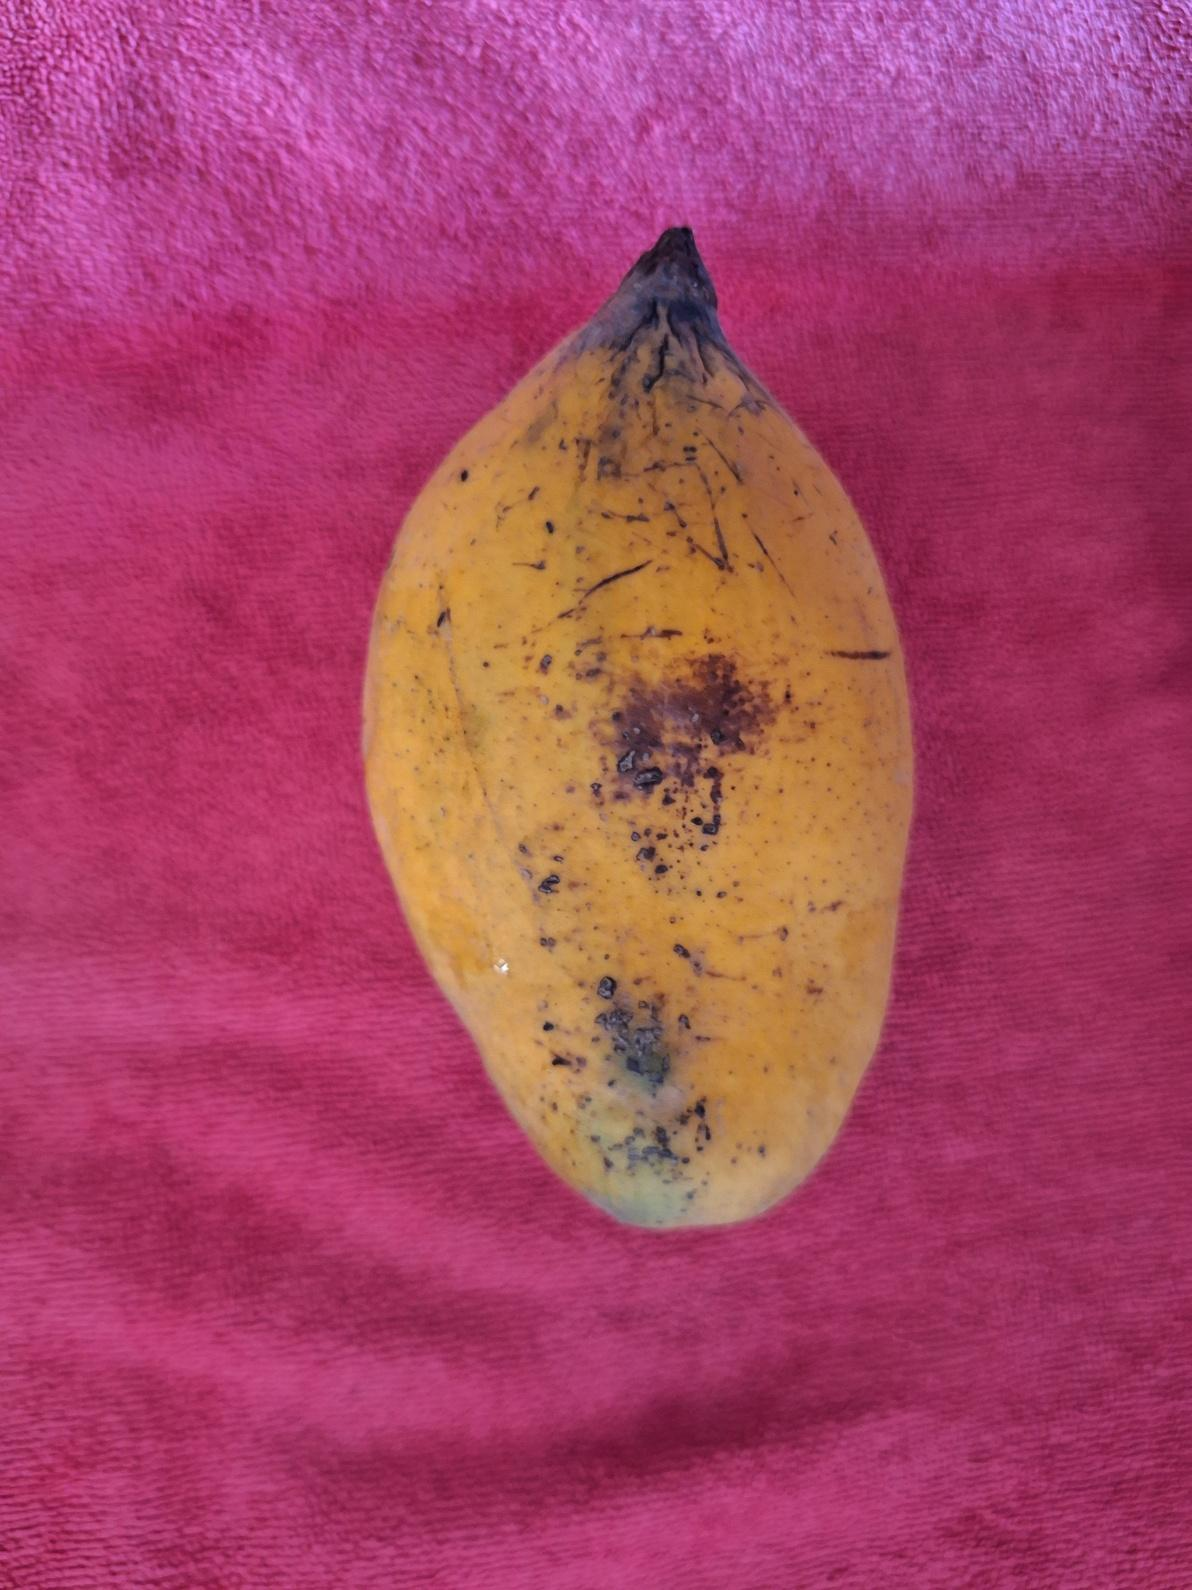mango: (358, 222, 917, 1231)
